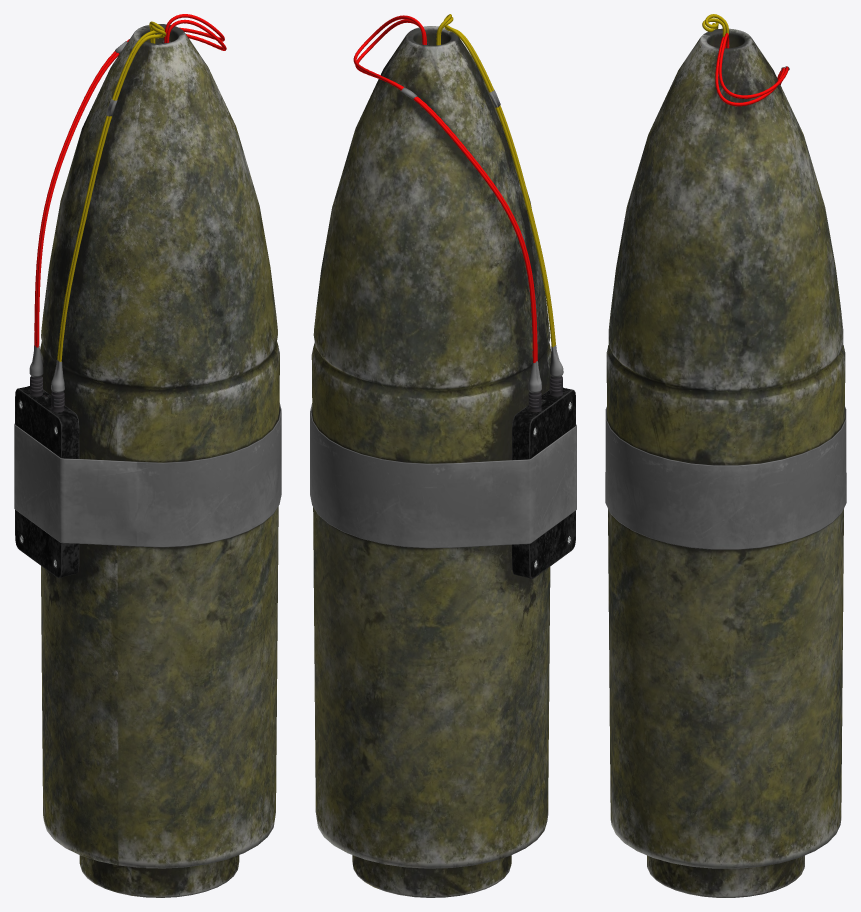
Rendered from ied.glb.
3 renders of one model, left to right at view 1: azimuth 30°, elevation 25°; view 2: azimuth 150°, elevation 25°; view 3: azimuth 270°, elevation 25°, orthographic.
Parts seen in each view (by area): view 1: ied_body; view 2: ied_body; view 3: ied_body.
Boxes of the visible parts, x1=… form: ied_body: x1=14, y1=14, x2=281, y2=897; ied_body: x1=310, y1=14, x2=576, y2=897; ied_body: x1=605, y1=14, x2=846, y2=897.
Size of the model in its own units: 0.1687 by 0.6 by 0.155.
1 material, 1 textured.
